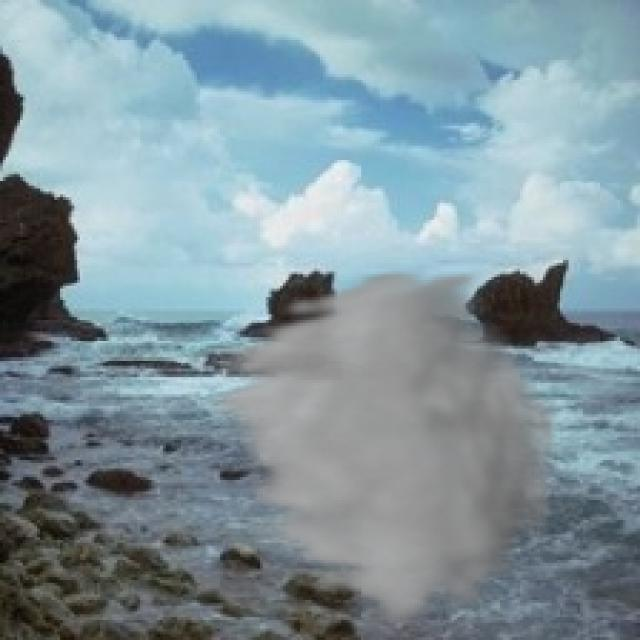smoke: (194, 266, 566, 631)
